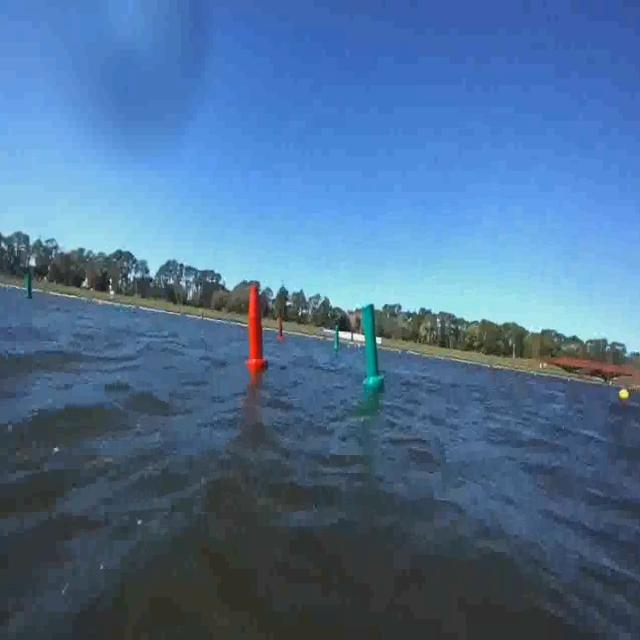green-column-buoy: (360, 300, 384, 389), (25, 271, 35, 300), (335, 325, 342, 350)
red-column-buoy: (245, 280, 267, 370), (278, 317, 286, 344)
yellow-buoy: (620, 388, 630, 402)
